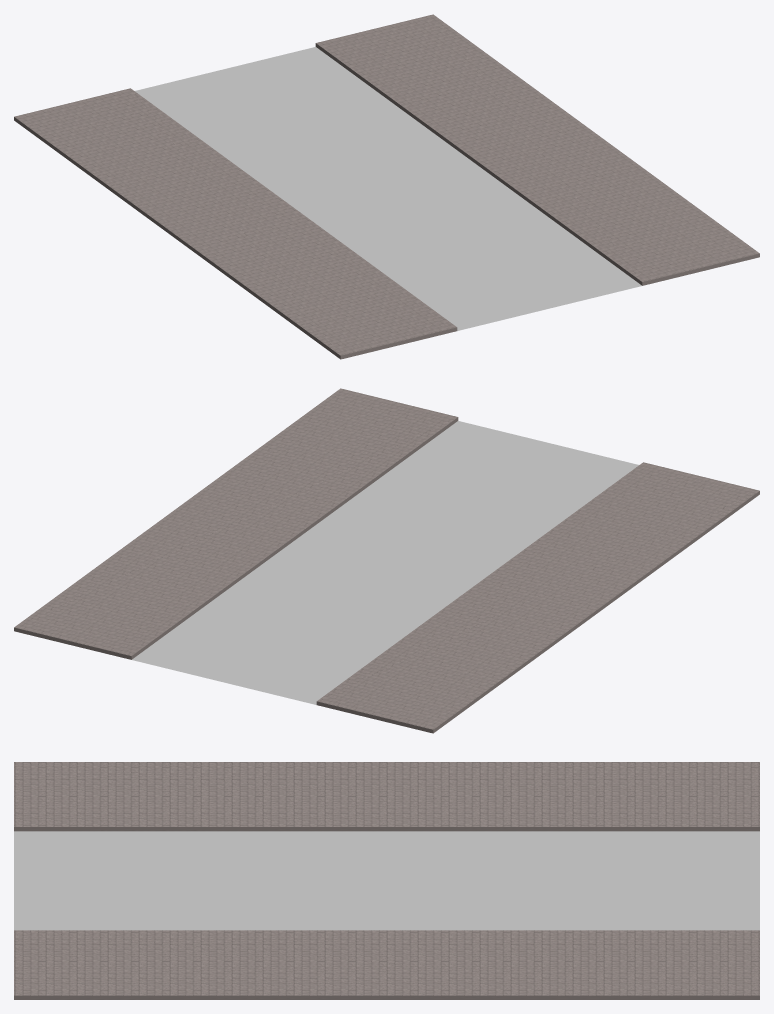
3 views of the same model, one above another, from view 1: azimuth 30°, elevation 25°; view 2: azimuth 150°, elevation 25°; view 3: azimuth 270°, elevation 25° (orthographic). The views are drawn at different scales.
Visible parts, largest first — view 1: BASE; view 2: BASE; view 3: BASE.
Boxes of the visible parts, left/top/right/bottom form: BASE: left=14, top=14, right=759, bottom=359; BASE: left=14, top=388, right=759, bottom=733; BASE: left=14, top=762, right=759, bottom=999.
Size of the model in its own units: 26.76 by 0.2291 by 36.11.
